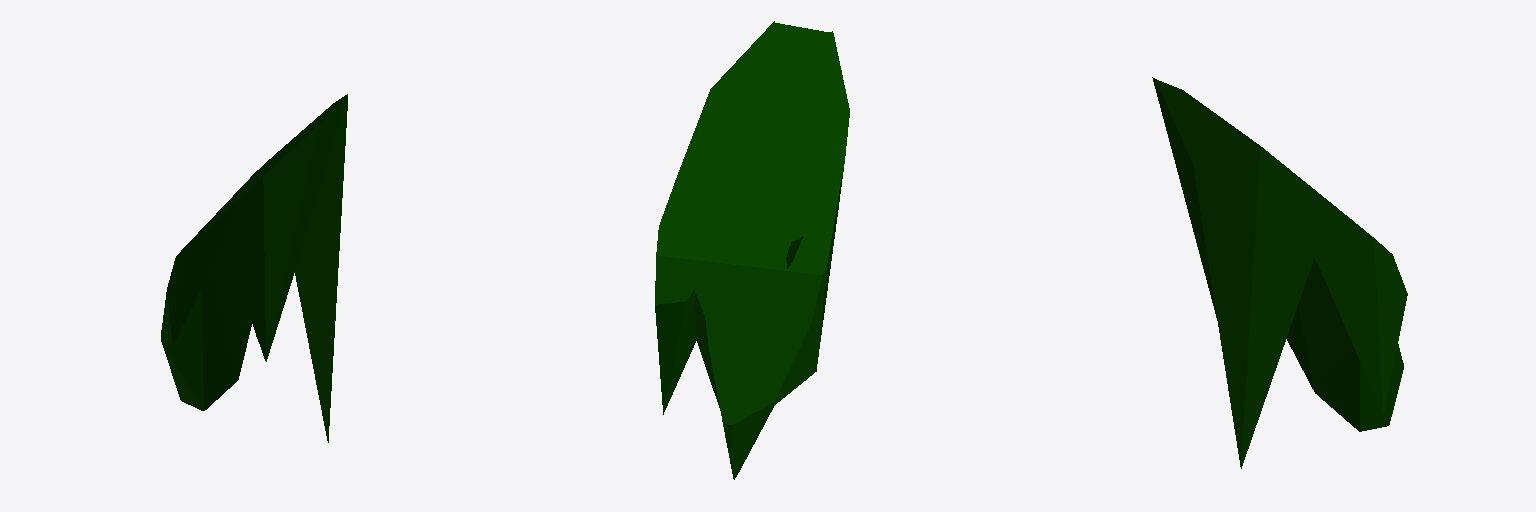
File: roofmoss_3.obj
3 renders of one model, left to right at view 1: azimuth 30°, elevation 25°; view 2: azimuth 150°, elevation 25°; view 3: azimuth 270°, elevation 25°, orthographic.
Parts seen in each view (by area): view 1: Icosphere.008; view 2: Icosphere.008; view 3: Icosphere.008.
Boxes of the visible parts, box(x1,y1,x2,y2) form: Icosphere.008: box(161, 94, 347, 442); Icosphere.008: box(655, 21, 849, 479); Icosphere.008: box(1152, 77, 1407, 468).
Bounding box in the file's own units: 0.4704 × 1.26 × 0.7725.